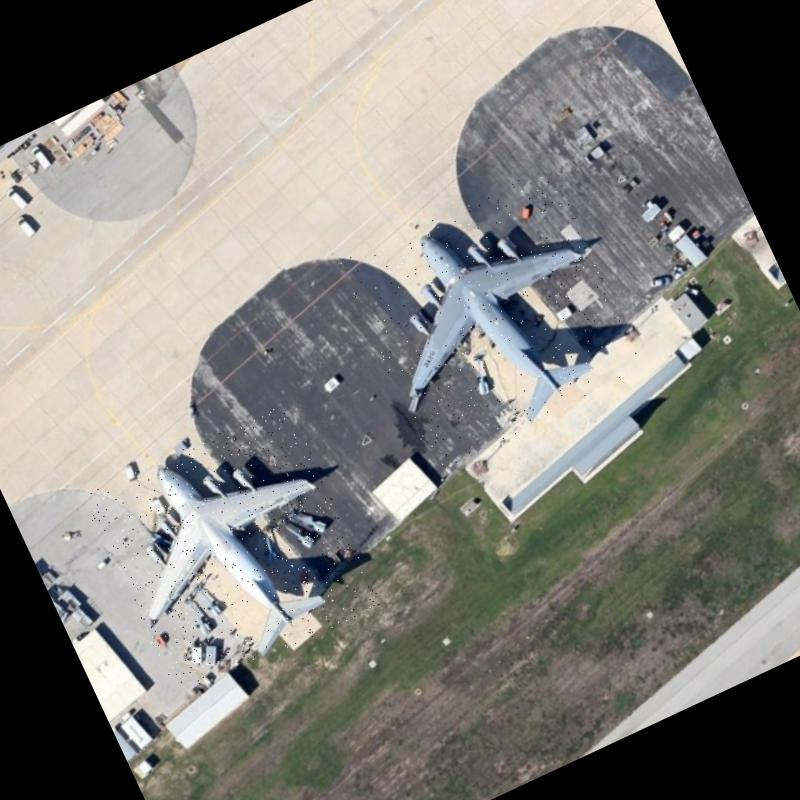A3: (337, 162, 650, 473), (81, 400, 382, 700)
